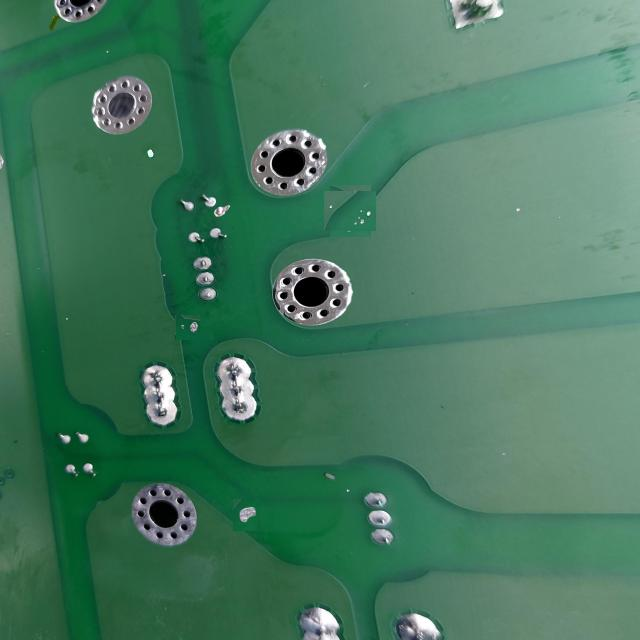spillover: (327, 188, 374, 234), (231, 500, 261, 530), (175, 315, 200, 340), (142, 142, 166, 166)
